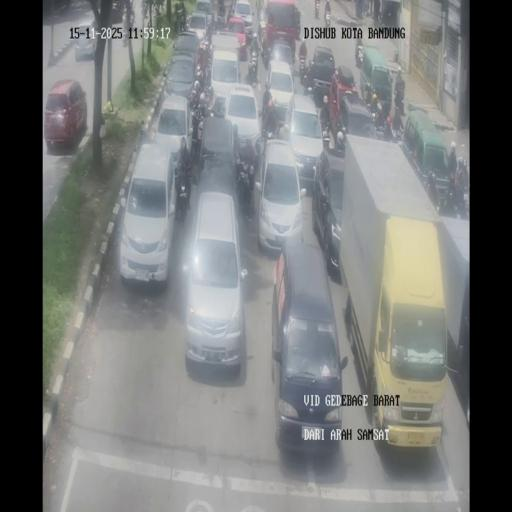3: (337, 143, 457, 447), (401, 110, 450, 207), (265, 0, 301, 63)
car: (271, 240, 343, 451), (183, 188, 247, 370), (118, 144, 176, 286), (314, 148, 345, 278), (284, 94, 323, 186), (44, 78, 88, 152), (222, 83, 262, 162), (154, 92, 193, 170), (336, 91, 378, 149), (264, 61, 296, 130), (306, 44, 336, 102), (164, 53, 198, 104), (209, 30, 243, 80), (74, 18, 96, 61), (232, 0, 254, 38), (173, 29, 200, 55), (193, 0, 213, 27), (110, 0, 128, 23)
truck: (235, 158, 256, 217), (174, 162, 192, 221), (190, 115, 207, 165), (196, 84, 216, 122), (441, 182, 457, 216), (262, 116, 281, 144), (372, 110, 387, 141), (456, 189, 470, 220), (247, 52, 259, 87), (256, 3, 266, 43), (212, 6, 227, 32), (260, 32, 270, 69), (202, 45, 212, 82), (299, 54, 309, 88), (393, 90, 405, 118), (213, 96, 227, 118), (321, 122, 331, 150), (178, 2, 187, 32), (390, 124, 403, 144), (251, 22, 258, 46), (324, 2, 331, 25), (226, 0, 234, 20), (356, 46, 363, 68), (378, 2, 384, 24), (141, 0, 148, 18), (130, 6, 135, 27), (314, 2, 320, 19)
